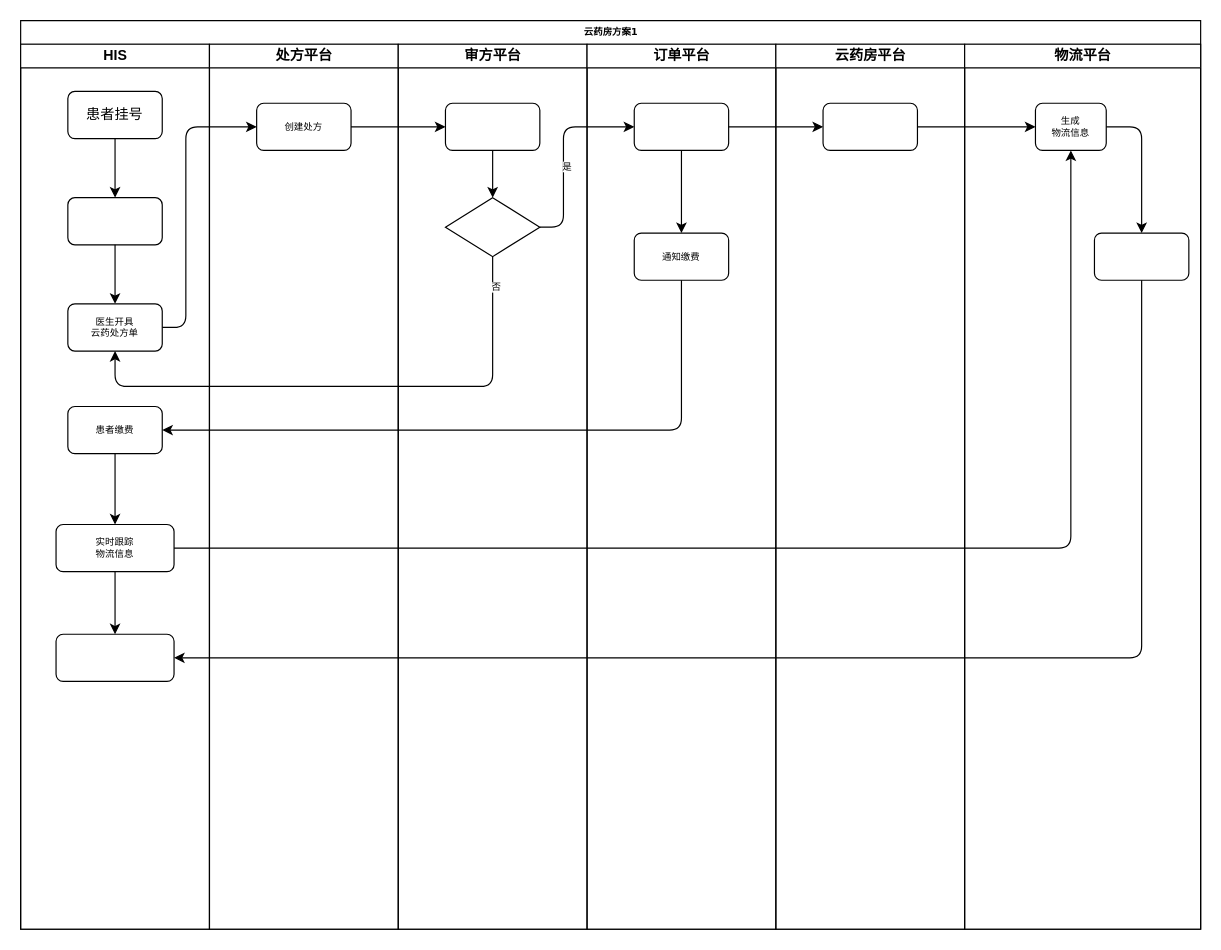
Image size: 1221x950. Some labels were removed from this diagram. Each missing label, with the centre of its shape:
"医生工作站 前来就诊" belongs at point (114, 220).
"审核处方" belongs at point (492, 126).
"收到药品" belongs at point (114, 657).
"是否通过" belongs at point (492, 226).
"生成订单" belongs at point (681, 126).
"药品出库" belongs at point (869, 126).
"药品发货" belongs at point (1141, 256).
